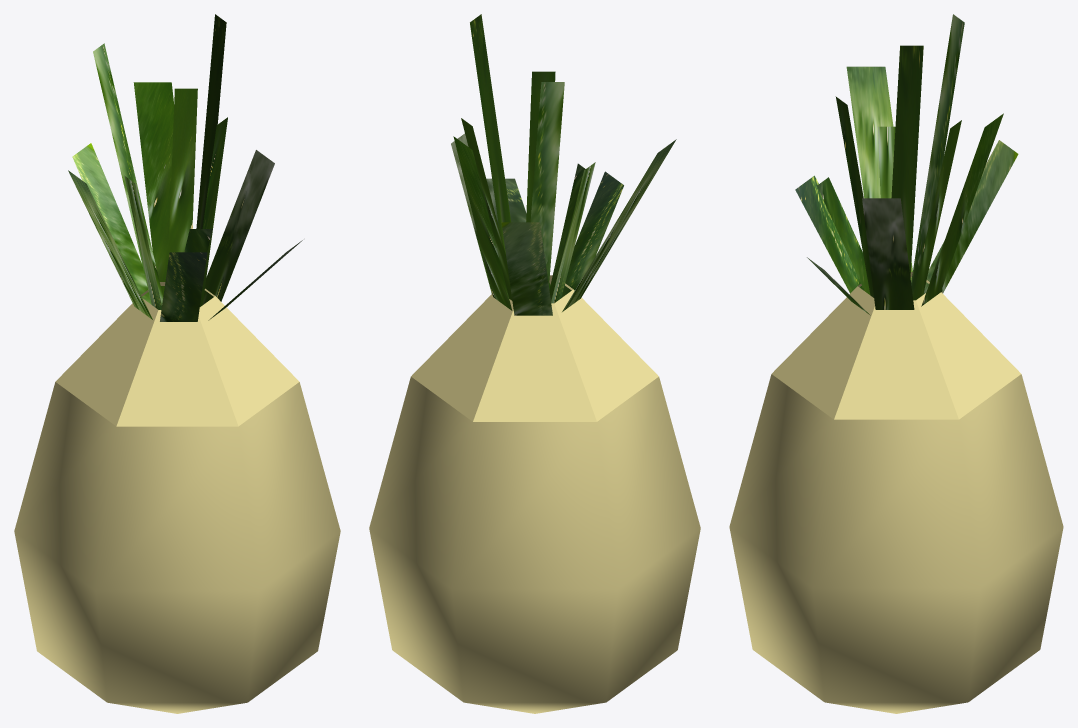
File: Abacaxi.fbx
The picture shows the model from 3 angles, left to right: view 1: azimuth 30°, elevation 25°; view 2: azimuth 150°, elevation 25°; view 3: azimuth 270°, elevation 25°; orthographic projection. The views are drawn at different scales.
Parts seen in each view (by area): view 1: Abacaxi Coroa; view 2: Abacaxi Coroa; view 3: Abacaxi Coroa.
Part boxes in pixels (box(x1,y1,x2,y2)): Abacaxi Coroa: box(14, 14, 340, 713); Abacaxi Coroa: box(369, 14, 700, 713); Abacaxi Coroa: box(729, 14, 1063, 713).
Bounding box in the file's own units: 13.87 × 16.02 × 36.7.
